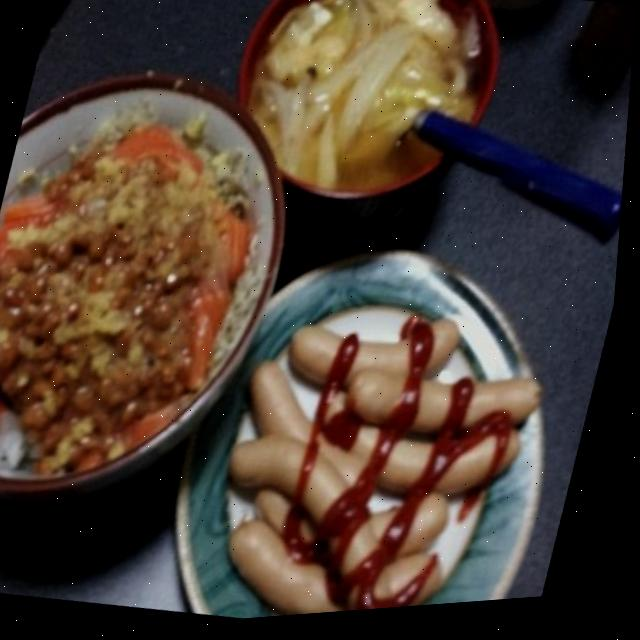汤锅炖物: (212, 0, 527, 243)
